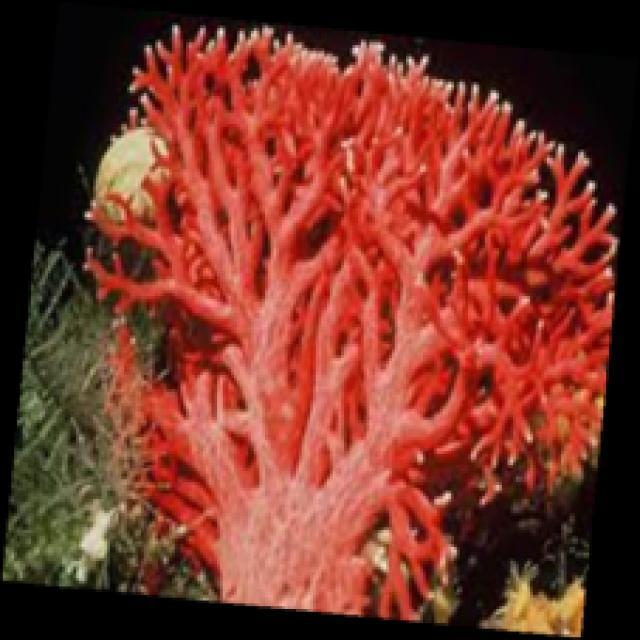Healthy: (86, 24, 621, 623)
